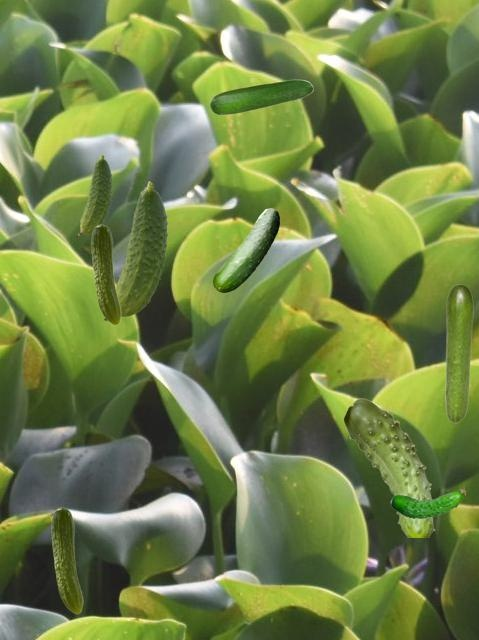cucumber: (343, 398, 434, 536), (104, 181, 167, 319), (213, 208, 278, 291), (445, 284, 472, 422), (209, 79, 312, 114), (51, 507, 82, 613), (75, 154, 111, 235), (91, 224, 120, 324), (390, 485, 464, 518)
